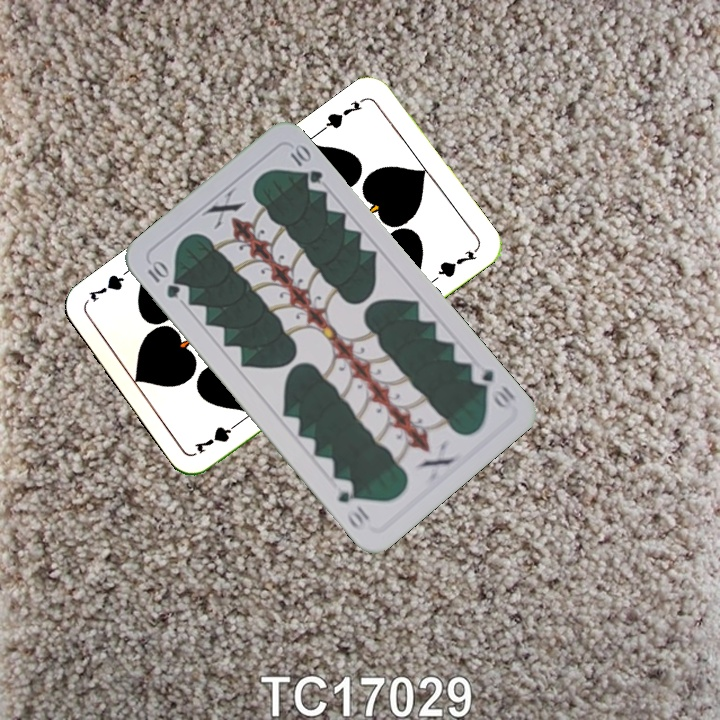G10: (466, 360, 520, 412), (143, 256, 183, 301)
G7: (190, 416, 245, 457), (317, 94, 369, 134)
